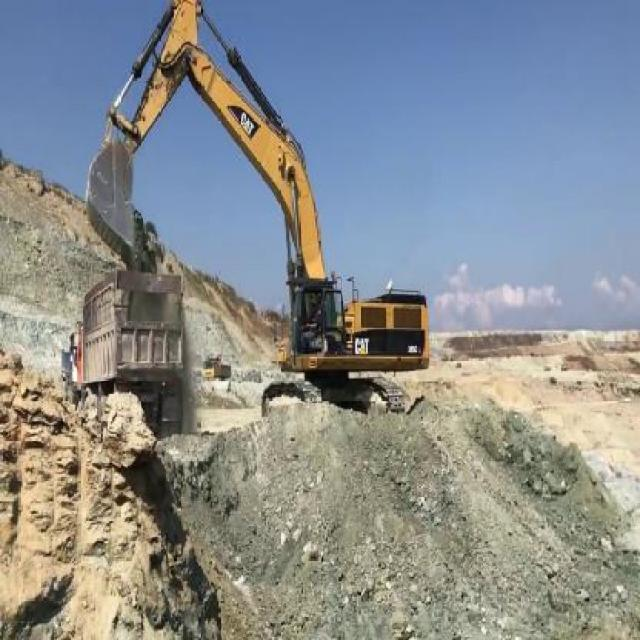Dump Truck: (68, 270, 183, 438)
Excavator: (84, 0, 430, 415)
